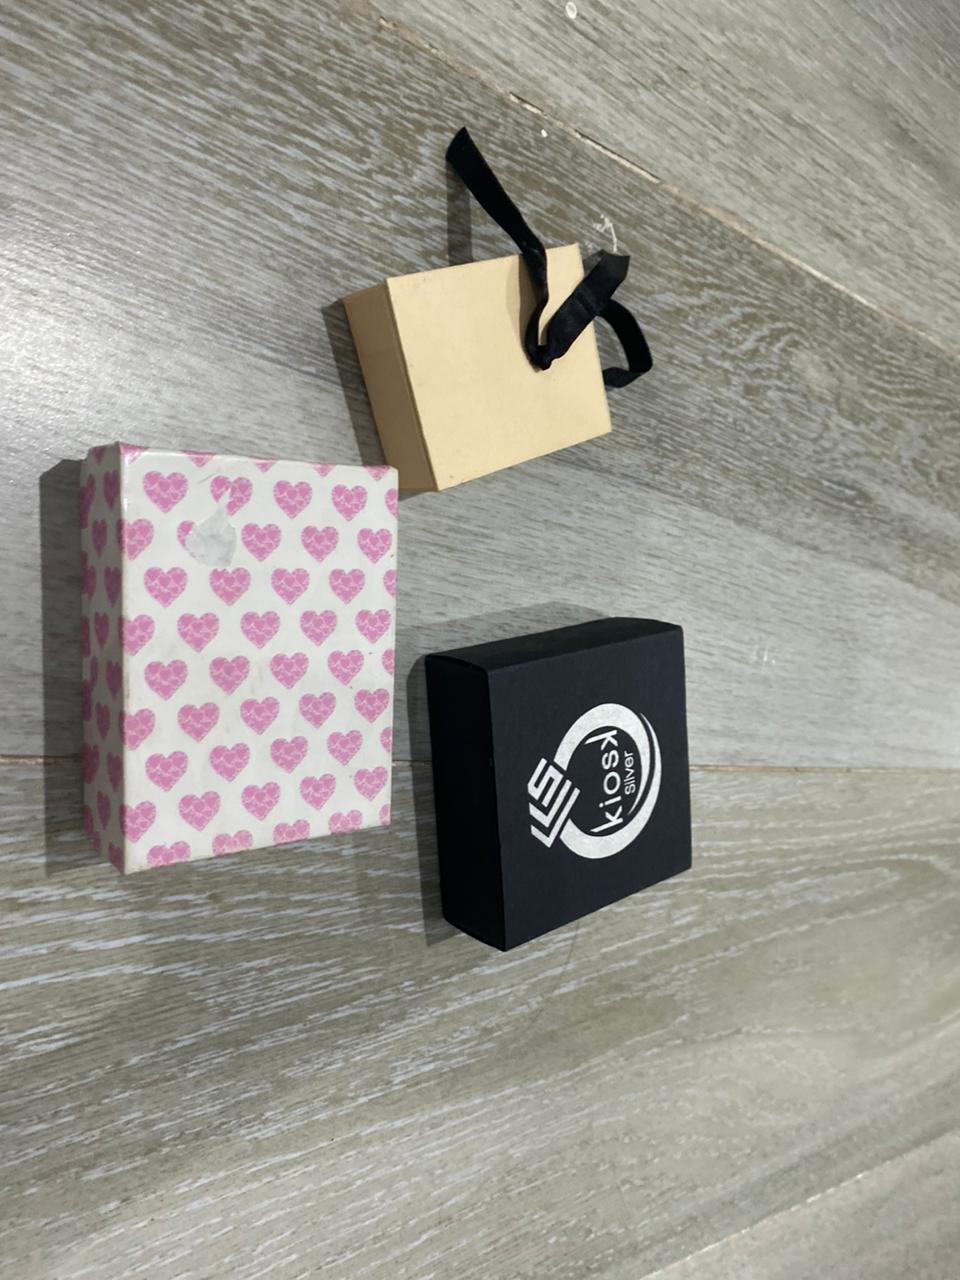Pink Box: (67, 445, 409, 876)
Red Box: (427, 615, 708, 955)
Yellow Box: (338, 244, 621, 498)
